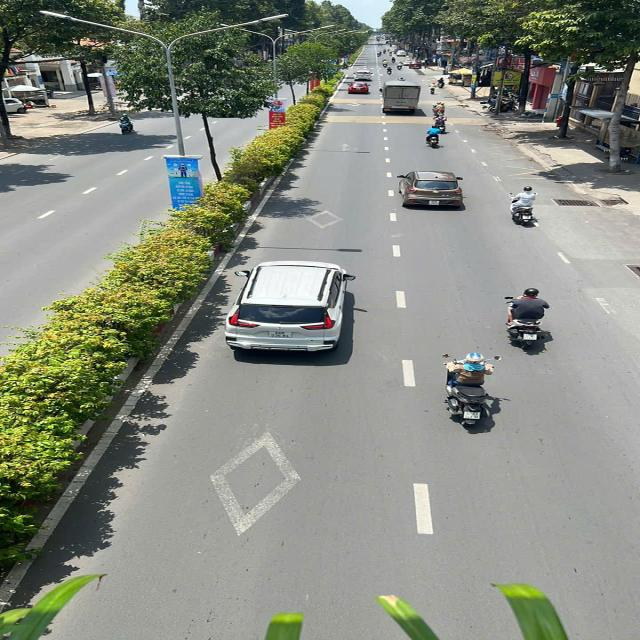car: (220, 257, 356, 357), (393, 168, 470, 214), (346, 79, 372, 96), (351, 67, 375, 83)
motobyte: (434, 349, 506, 433), (499, 286, 553, 352), (508, 184, 540, 228), (425, 123, 445, 149), (431, 112, 453, 134), (432, 100, 448, 121), (384, 64, 395, 76)
